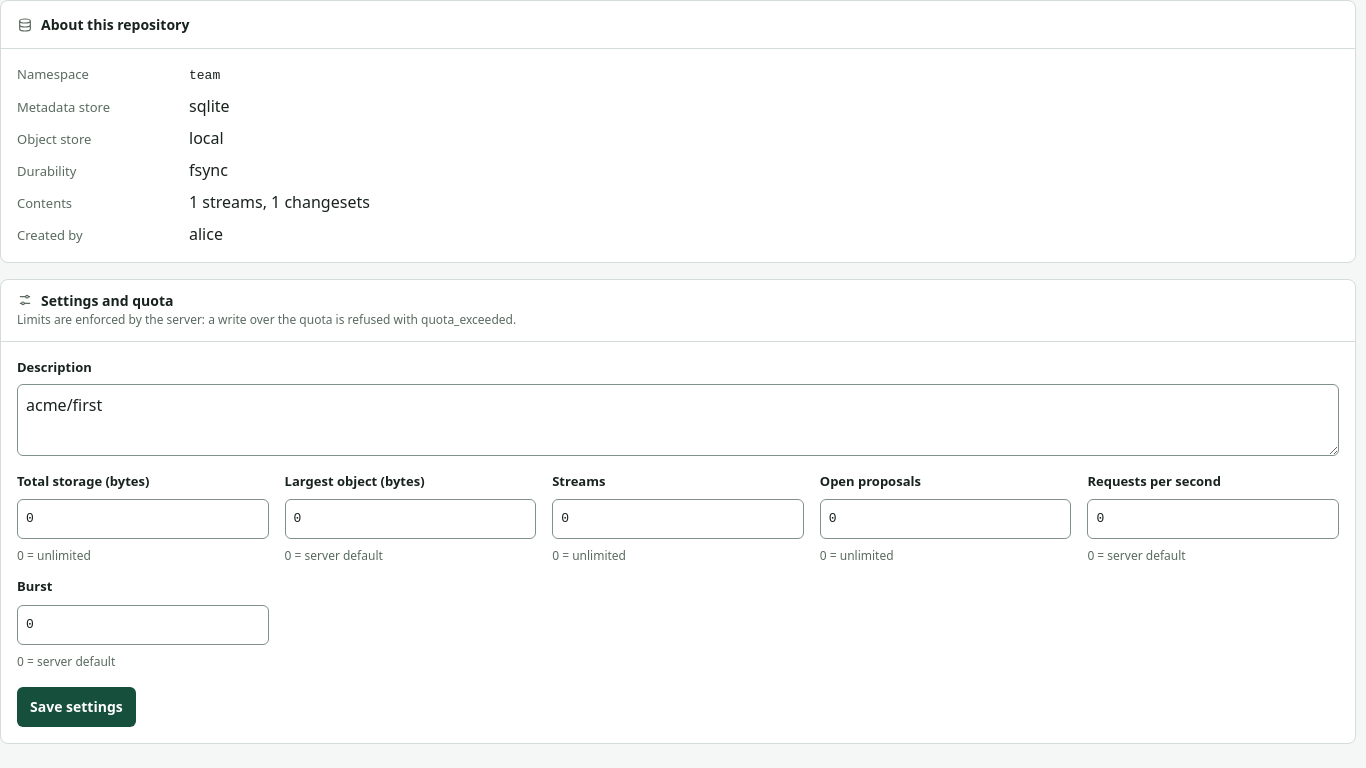
repository settings saves › locks pending values, ignores duplicate submissions and preserves them after failure for retry
Replace the text in the text box labelled "Description" with "New description" at (678, 420), box [17,384,1339,456]
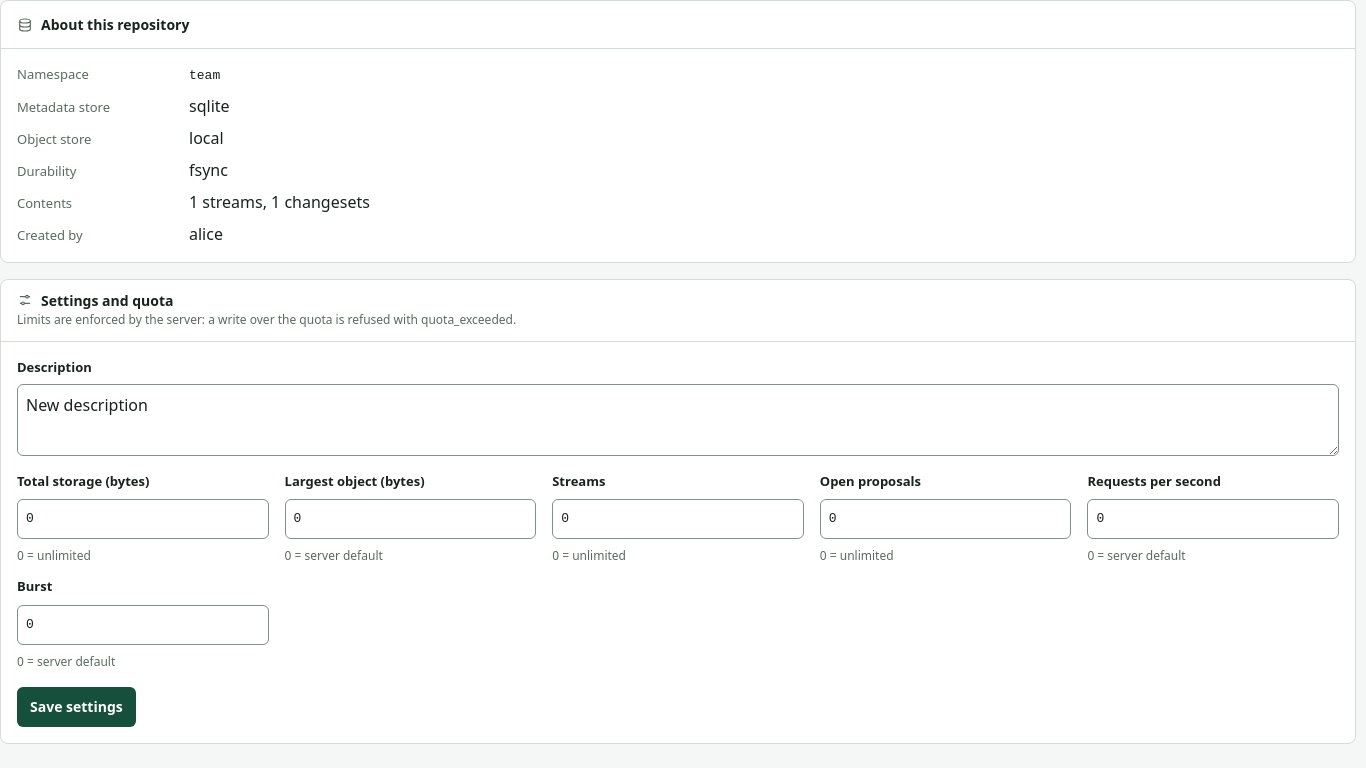
Replace the text in the number field labelled "Total storage (bytes)" with "4096" at (143, 519), box [26,505,260,533]
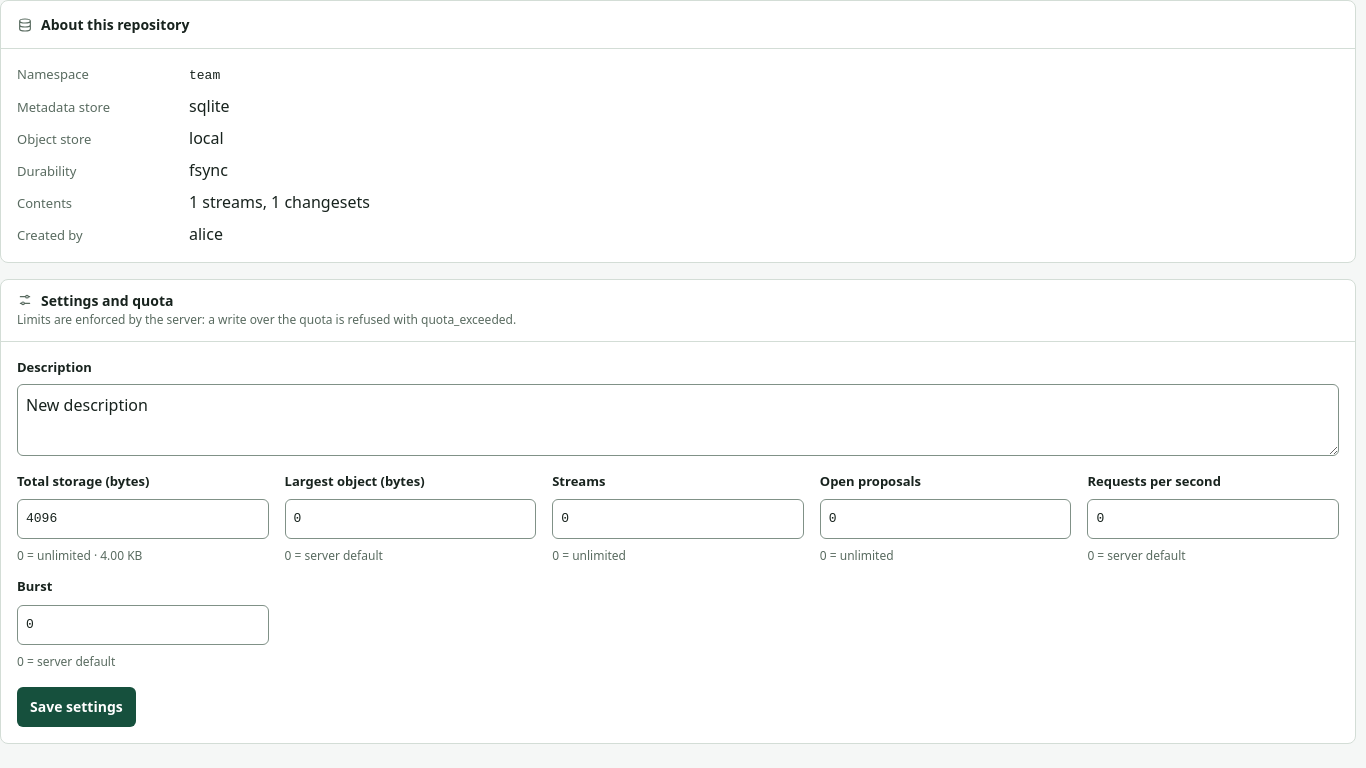
Submit the form, box [17,358,1339,726]
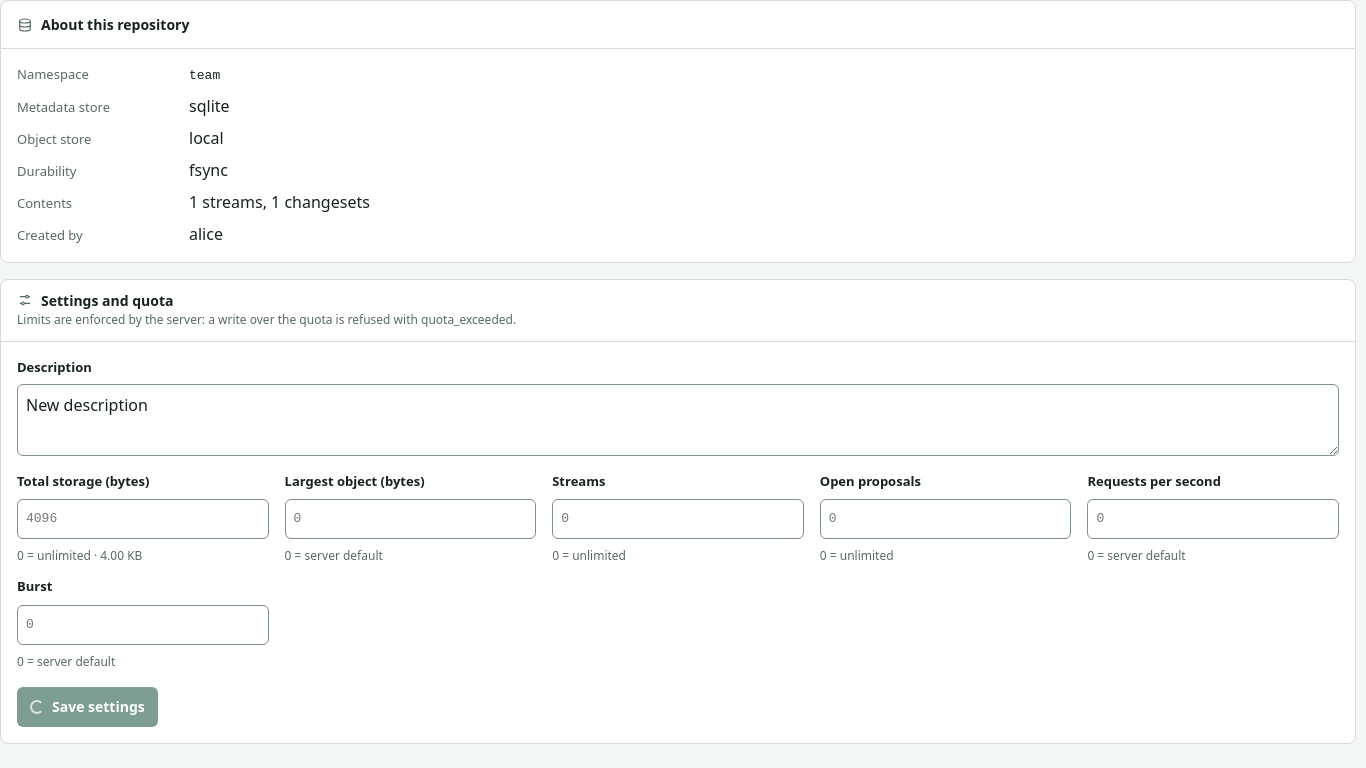
expect the text box labelled "Description" is disabled: met, box [17,384,1339,456]
Submit the form, box [17,358,1339,726]
(page scrolled)
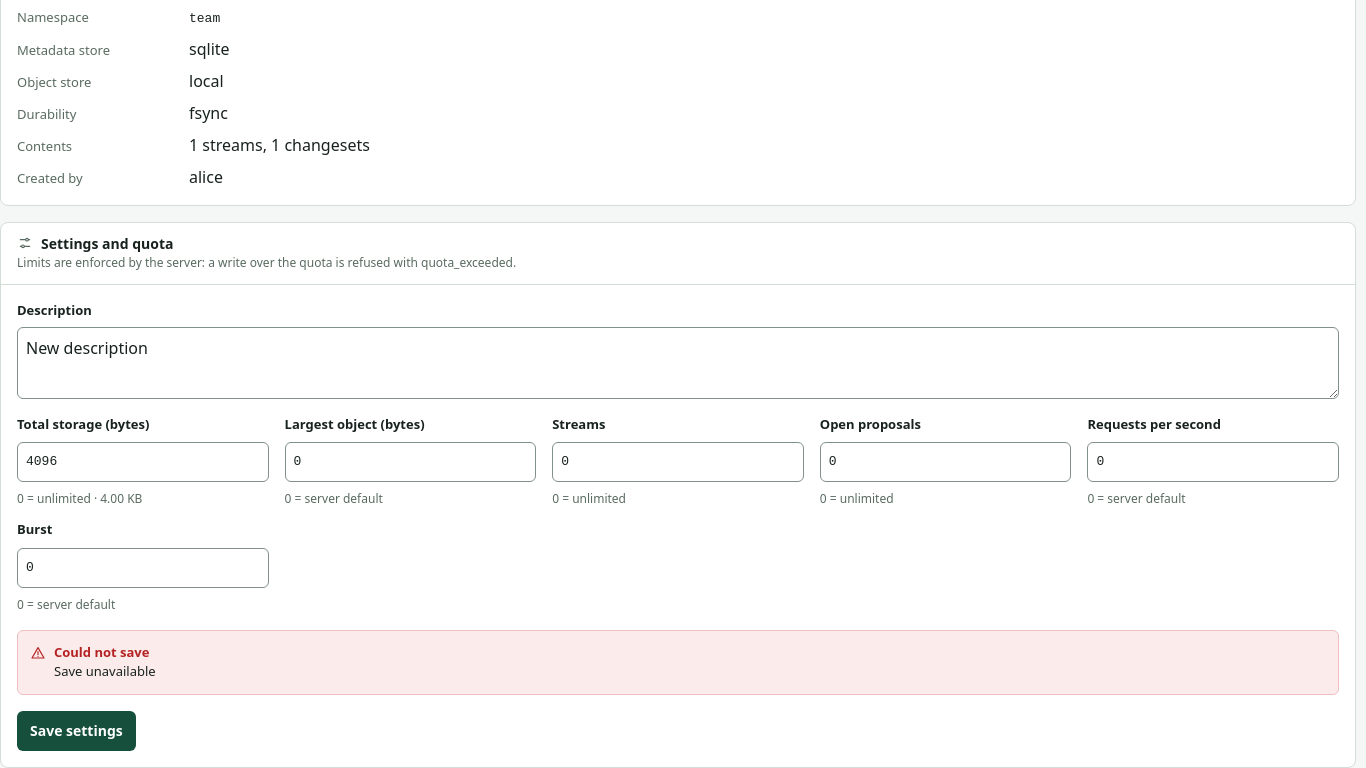
expect the text "Save unavailable" is shown: met, box [54,662,156,680]
expect the text box labelled "Description" is enabled: met, box [17,326,1339,398]
Submit the form, box [17,301,1339,750]
(page scrolled)
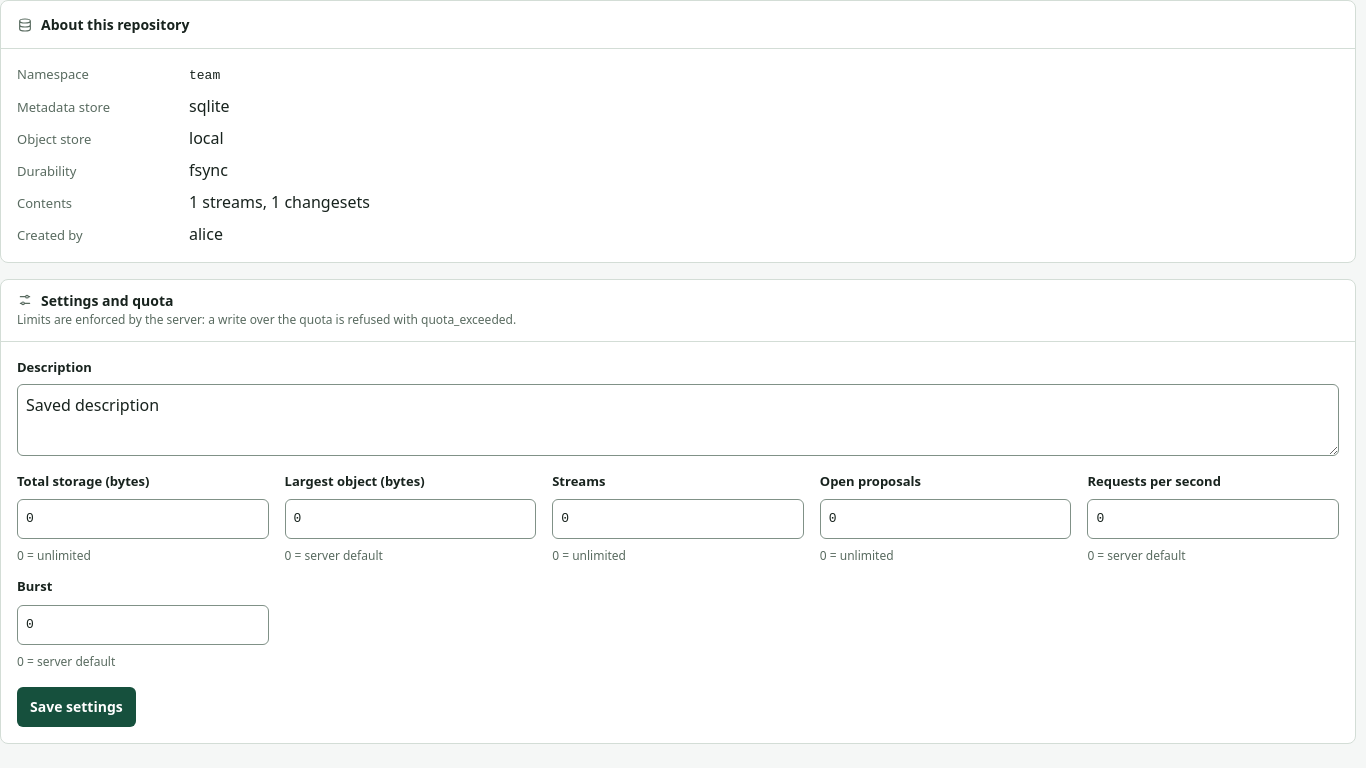
expect the text box labelled "Description" holds "Saved description": met, box [17,384,1339,456]
